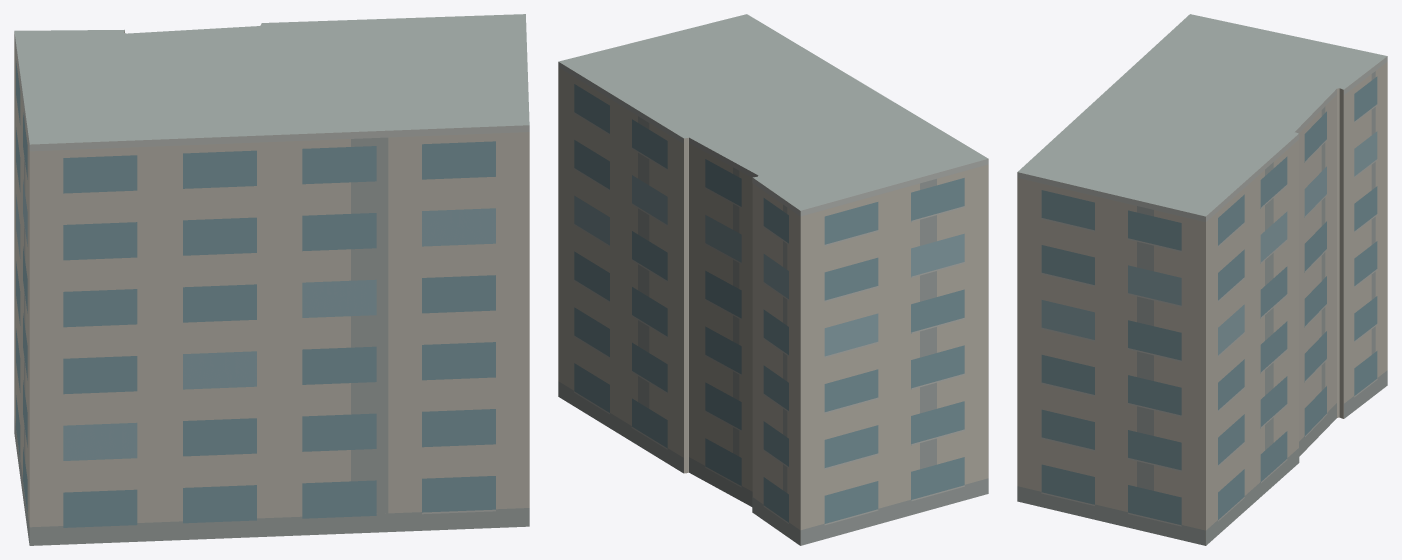
The model's file is survey-upis-32944930.glb.
3 views of the same model, side by side, from view 1: azimuth 30°, elevation 25°; view 2: azimuth 150°, elevation 25°; view 3: azimuth 270°, elevation 25° (orthographic). The views are drawn at different scales.
Parts seen in each view (by area): view 1: survey-upis-32944930.tmp; view 2: survey-upis-32944930.tmp; view 3: survey-upis-32944930.tmp.
Boxes of the visible parts, <box> form: survey-upis-32944930.tmp: <box>14,14,529,545</box>; survey-upis-32944930.tmp: <box>558,14,988,545</box>; survey-upis-32944930.tmp: <box>1017,14,1387,545</box>.
Size of the model in its own units: 18.87 by 14.3 by 14.58.
